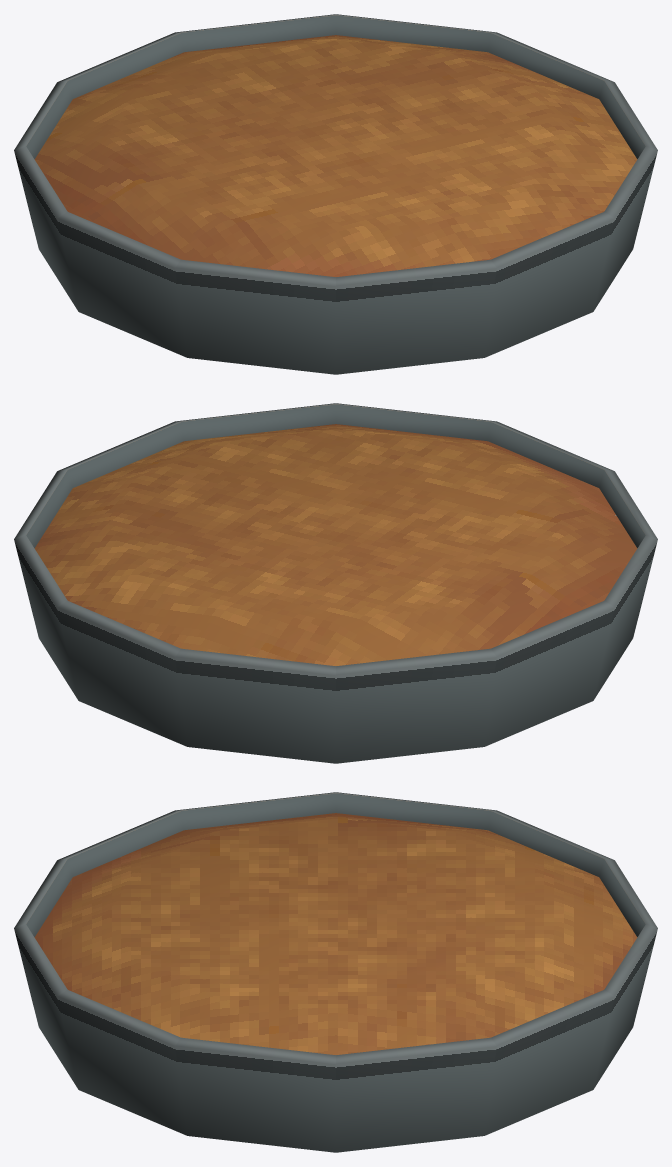
The model's file is vanillaCakePan.fbx.
The picture shows the model from 3 angles, top to bottom: view 1: azimuth 30°, elevation 25°; view 2: azimuth 150°, elevation 25°; view 3: azimuth 270°, elevation 25°; orthographic projection.
Parts seen in each view (by area): view 1: Cake001; view 2: Cake001; view 3: Cake001.
Boxes of the visible parts, left/top/right/bottom form: Cake001: left=14, top=14, right=657, bottom=374; Cake001: left=14, top=403, right=657, bottom=763; Cake001: left=14, top=792, right=657, bottom=1152.
Size of the model in its own units: 59.26 by 11.38 by 59.26.
